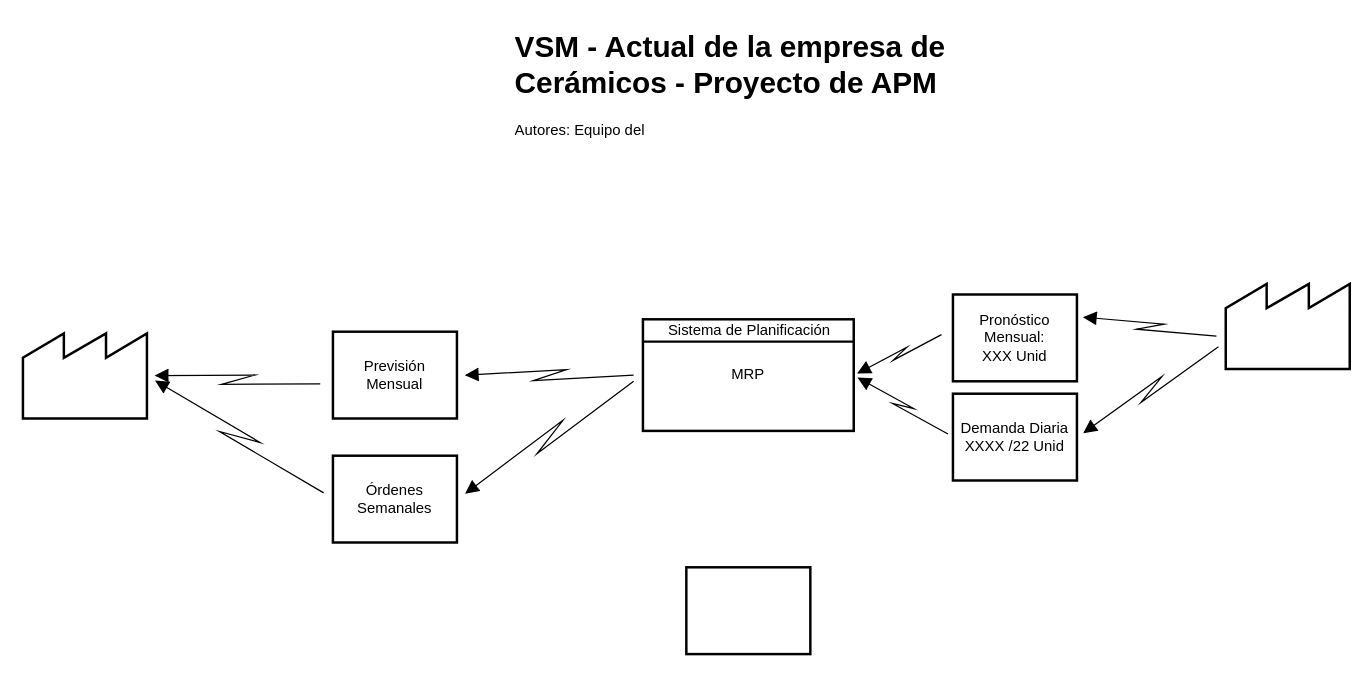
The diagram is 1371 pixels wide and 676 high, and some of its shapes have lost their labels. The shapes that lost their labels are listed below. From the top down, each one's box as (x1, y1, x2, y2) in pixels, then its label:
(1224, 280, 1350, 370): Cliente
(21, 330, 148, 419): Proveedor
(684, 565, 811, 655): Programación Semanal
